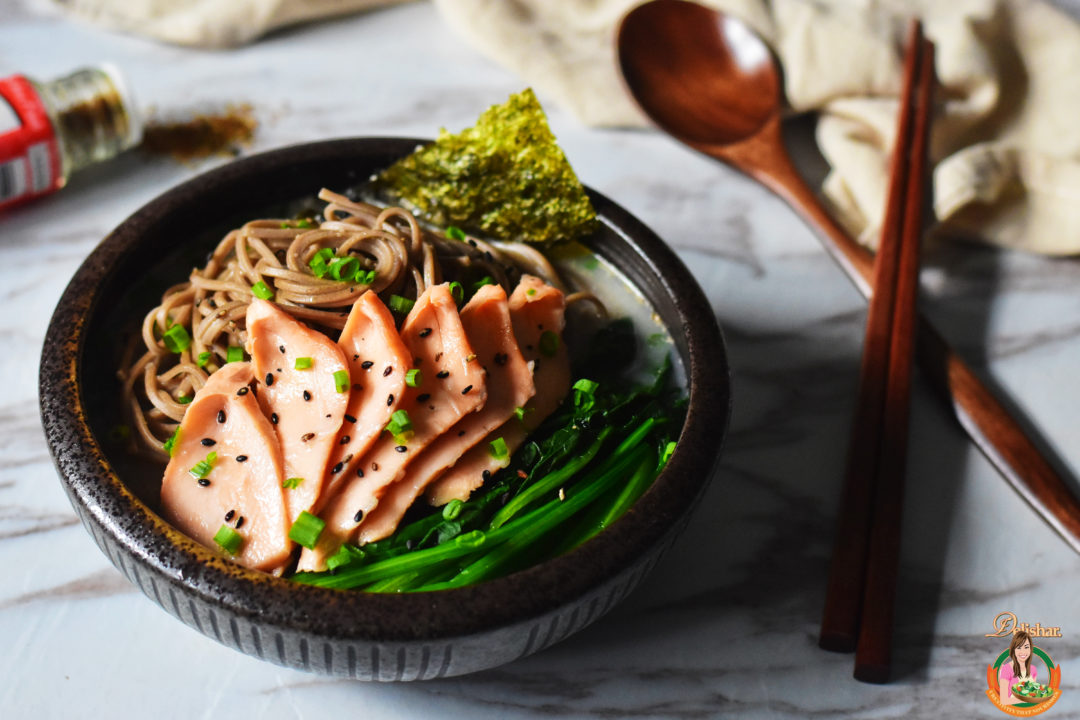Soba: (153, 167, 594, 415)
